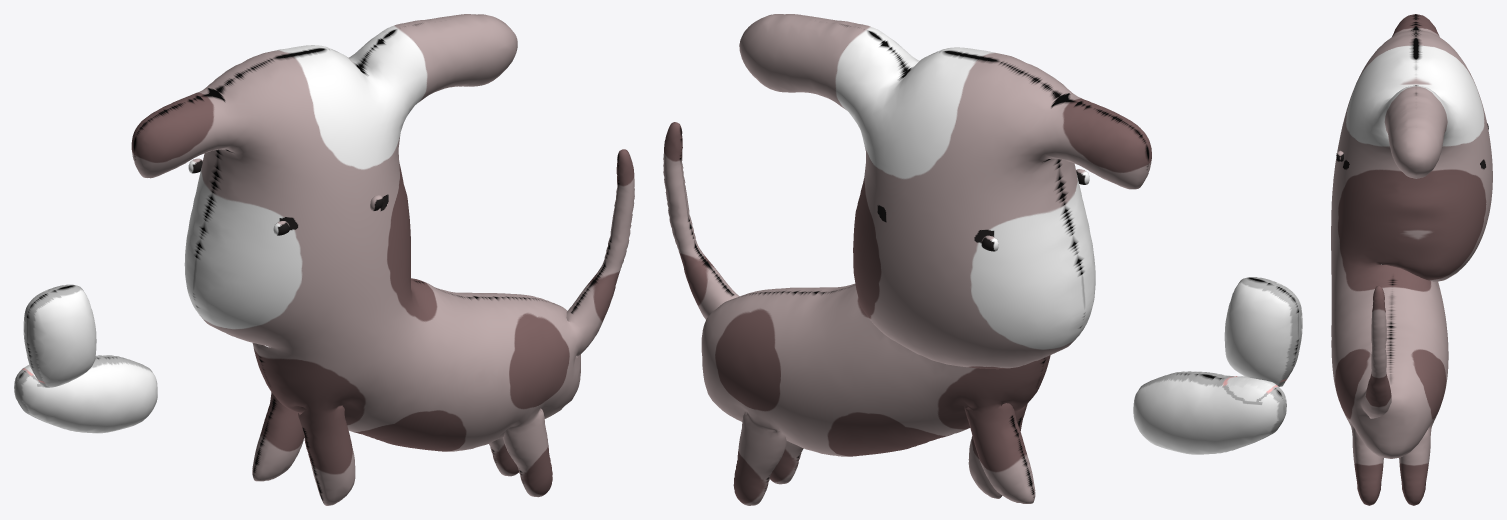
File: asset.glb
3 renders of one model, left to right at view 1: azimuth 30°, elevation 25°; view 2: azimuth 150°, elevation 25°; view 3: azimuth 270°, elevation 25°, orthographic. The views are drawn at different scales.
Bounding box in the file's own units: 8.43 × 6.36 × 2.48.
1 material, 1 textured.
